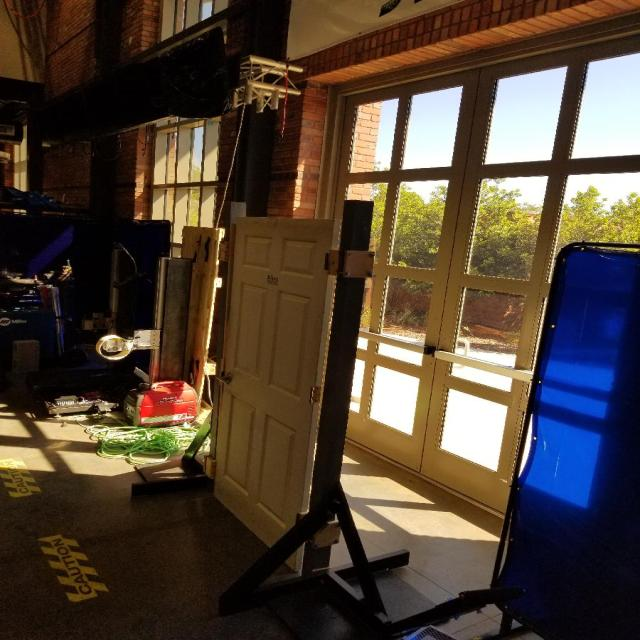doorhandle: (212, 369, 238, 389)
